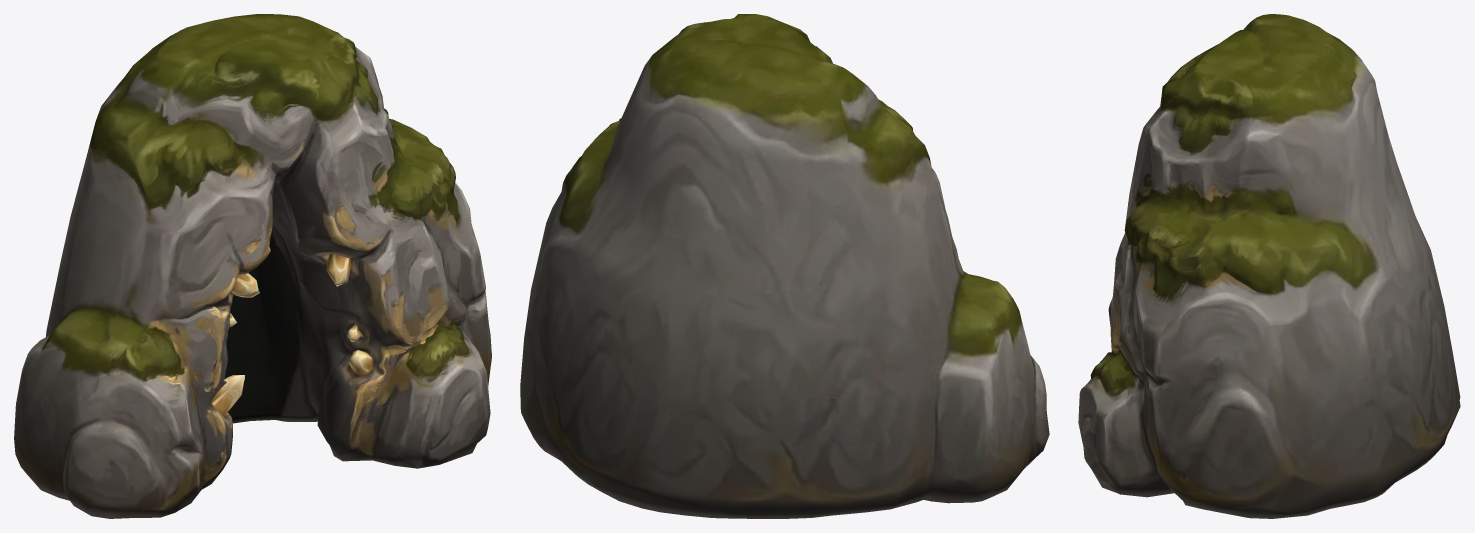
The model's file is cavemouth.glb.
The picture shows the model from 3 angles, left to right: view 1: azimuth 30°, elevation 25°; view 2: azimuth 150°, elevation 25°; view 3: azimuth 270°, elevation 25°; orthographic projection. The views are drawn at different scales.
Bounding box in the file's own units: 1.21 × 1 × 0.9139.
Materials: 1 (1 with a texture image).
